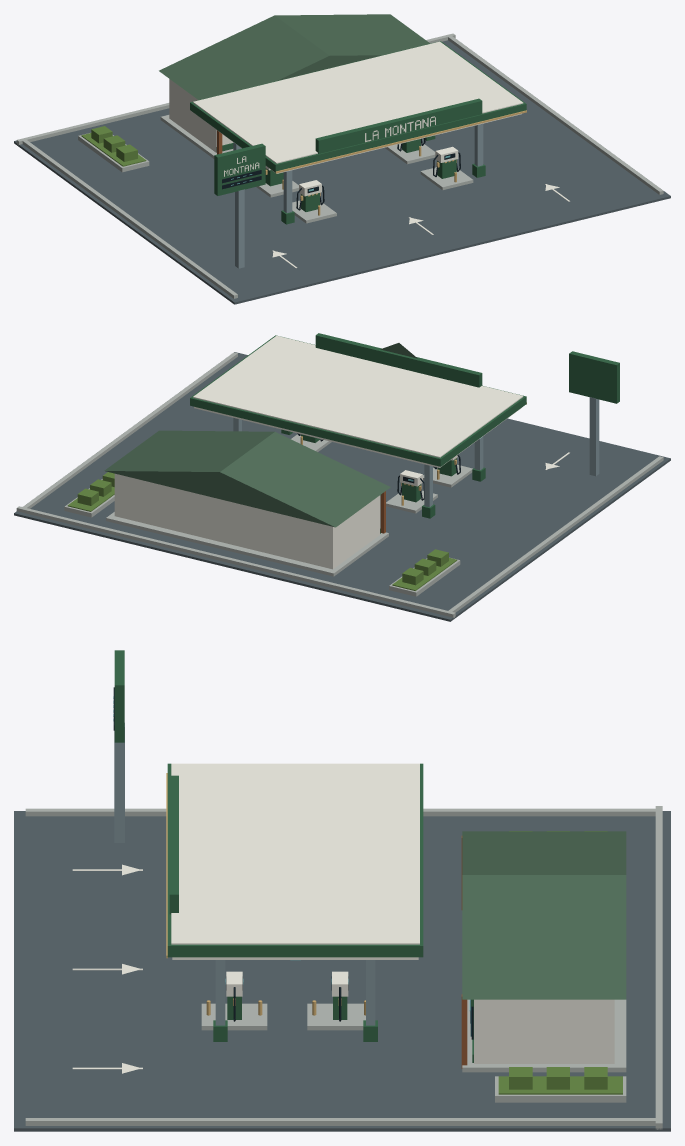
Rendered from gasolinera-la-montana.glb.
3 views of the same model, one above another, from view 1: azimuth 30°, elevation 25°; view 2: azimuth 150°, elevation 25°; view 3: azimuth 270°, elevation 25° (orthographic). The views are drawn at different scales.
Visible parts, largest first — view 1: La Montaña; view 2: La Montaña; view 3: La Montaña.
Part boxes in pixels (<box>): La Montaña: <box>14,14,670,304</box>; La Montaña: <box>14,333,670,621</box>; La Montaña: <box>14,650,670,1131</box>.
Bounding box in the file's own units: 32 × 8.28 × 28.
